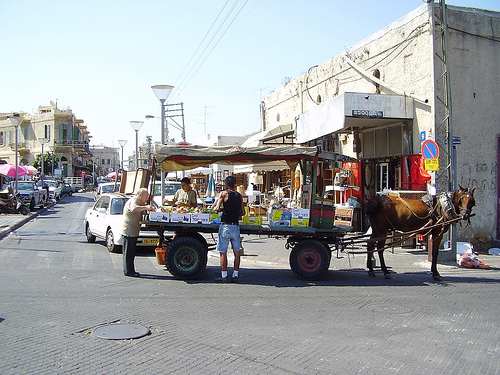horse: (359, 185, 477, 282)
